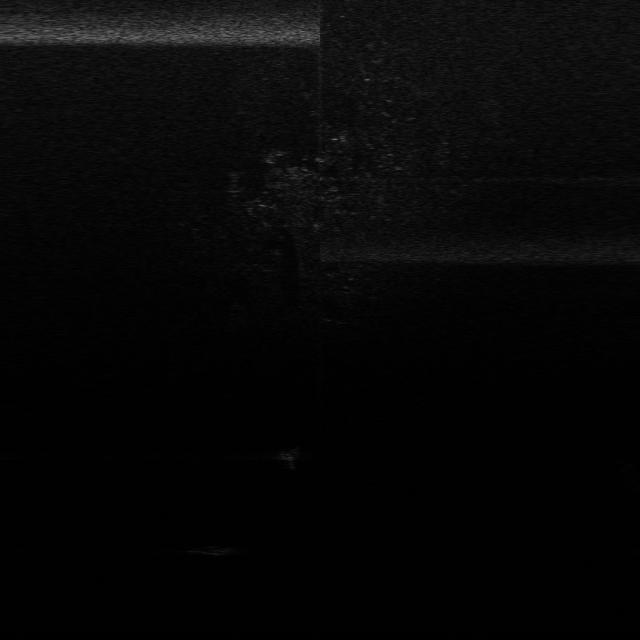cube: (188, 541, 243, 559)
square cage: (274, 443, 306, 465)
